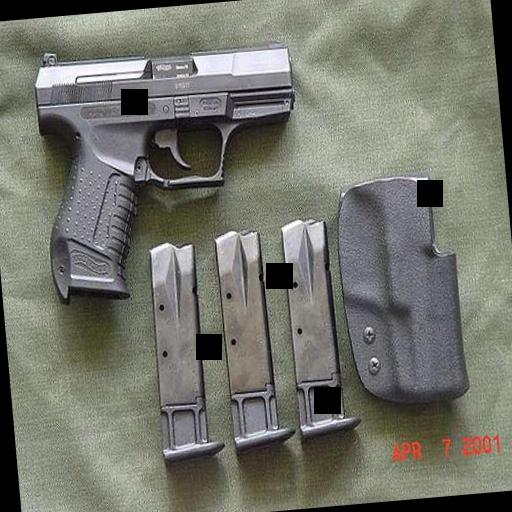Handgun: (30, 26, 312, 306)
